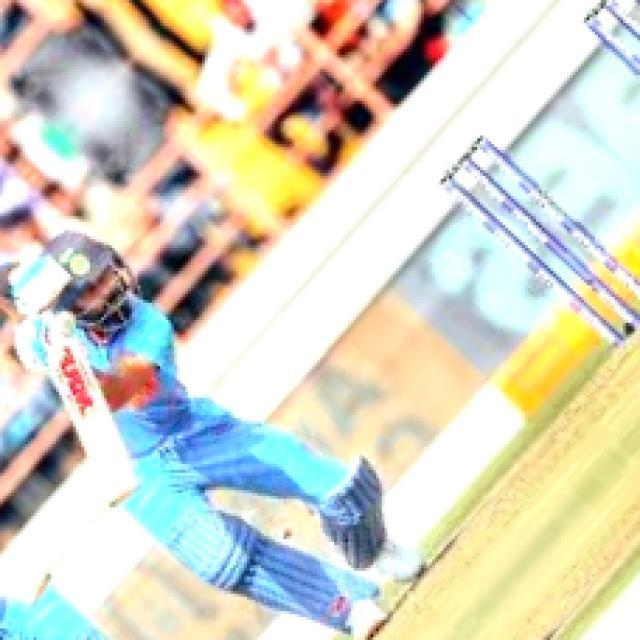bat: (46, 338, 145, 515)
toe: (100, 478, 145, 513)
